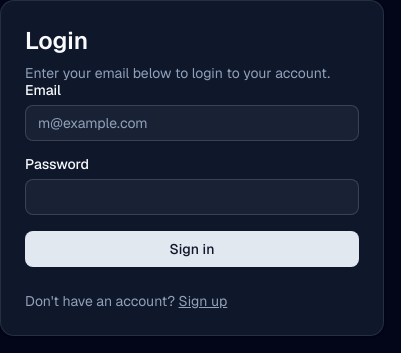
AuthForm (Interactive) › should switch between login and sign up forms
The image size is (401, 353).
Click the button "Sign up" at point(203, 301), box left=178, top=291, right=227, bottom=311
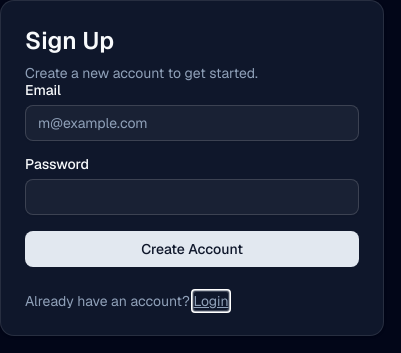
Result: the heading "Sign Up" is shown at left=25, top=25, right=114, bottom=56
